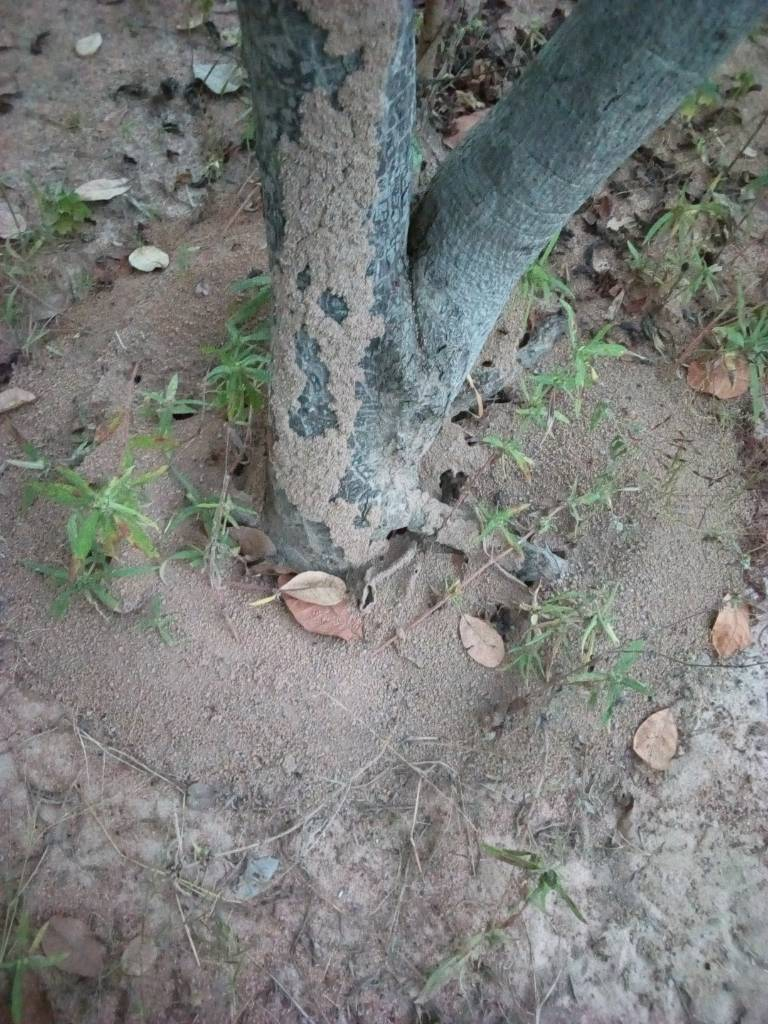Virose: (236, 1, 479, 613)
